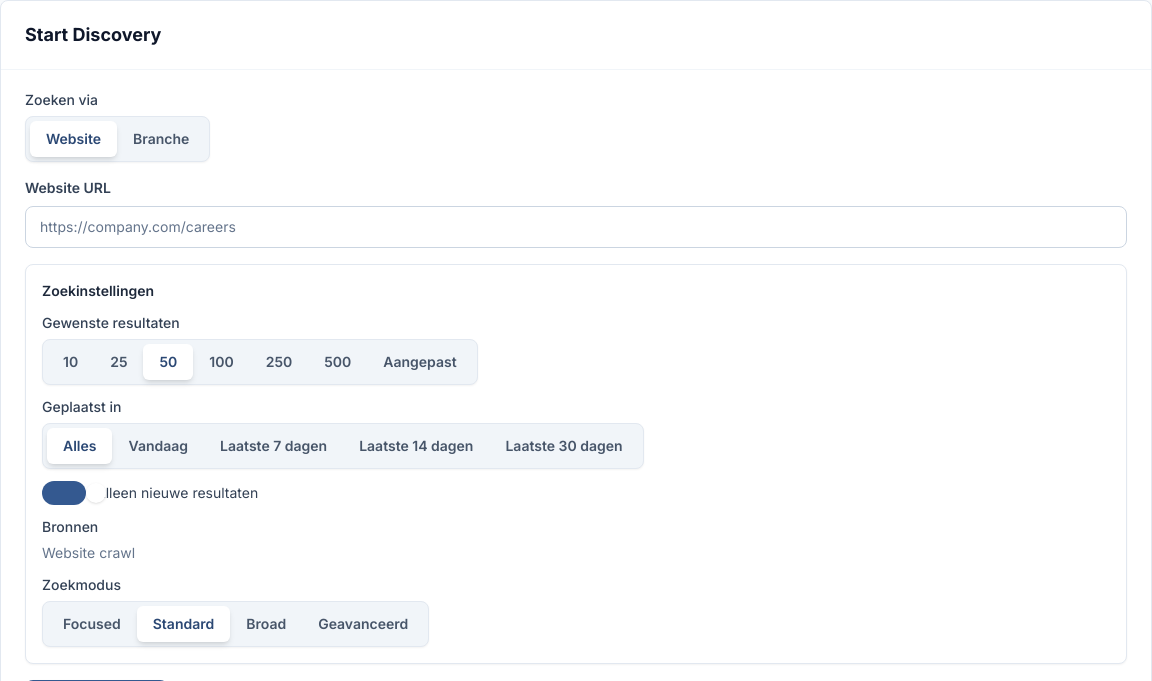
Test: StartDiscoveryForm › switching back to Website mode restores the Website URL field and hides the branch fields
What coordinates should you click on to do the following:
click the radio button labelled "Branche"
I would click on:
 (161, 139)
Its box is [117,121,205,157].
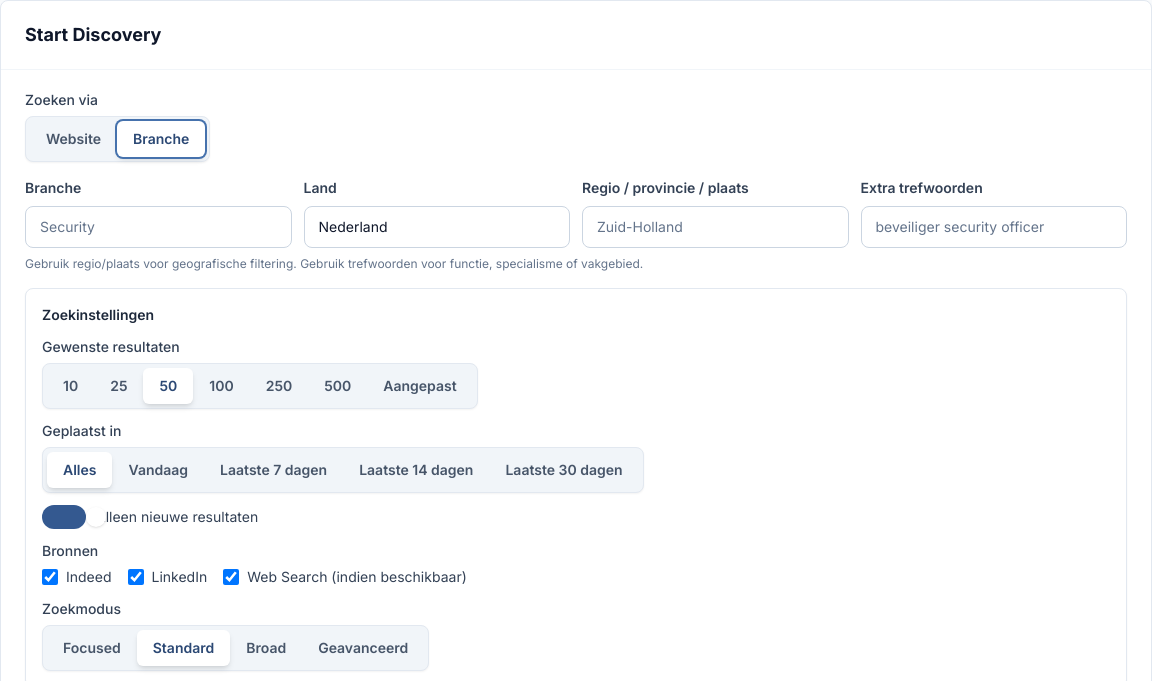
What coordinates should you click on to do the following:
click the radio button labelled "Website"
I would click on:
 (74, 139)
Its box is [30,121,117,157].
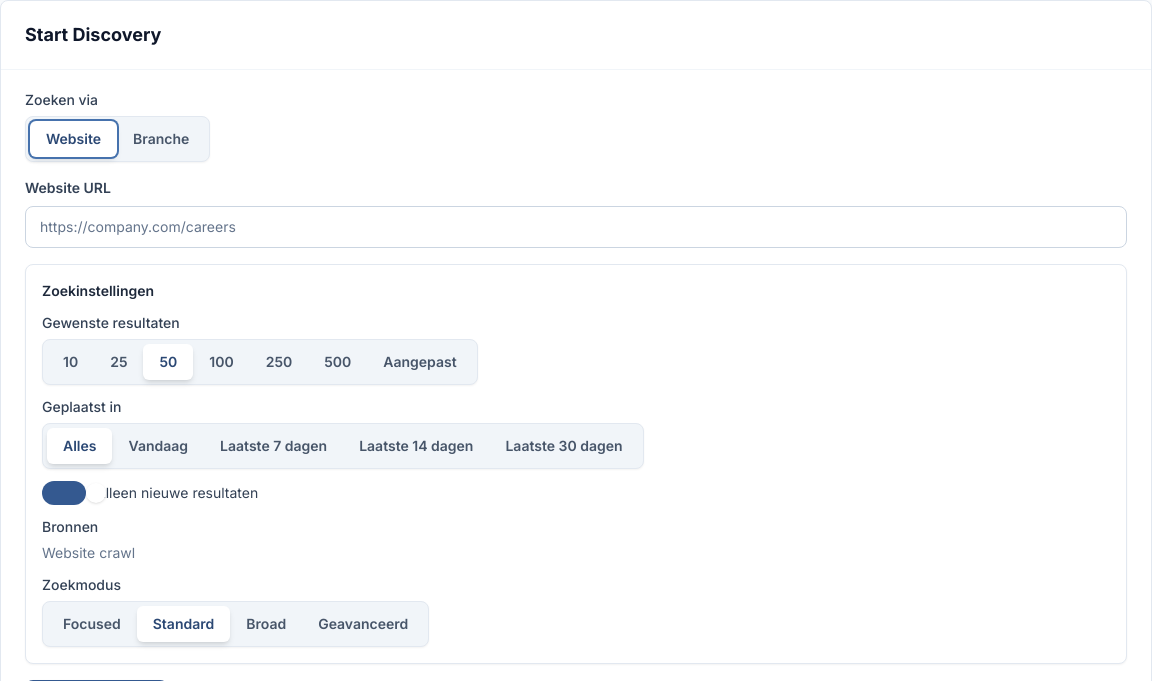
Now the field labelled "Website URL" is shown, box [25,206,1127,248]
